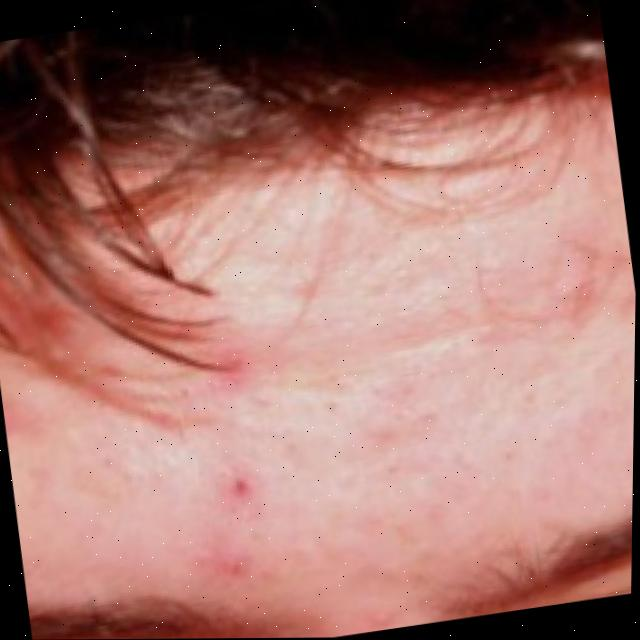Acne: (231, 544, 262, 592), (215, 345, 239, 391), (235, 473, 254, 501)
